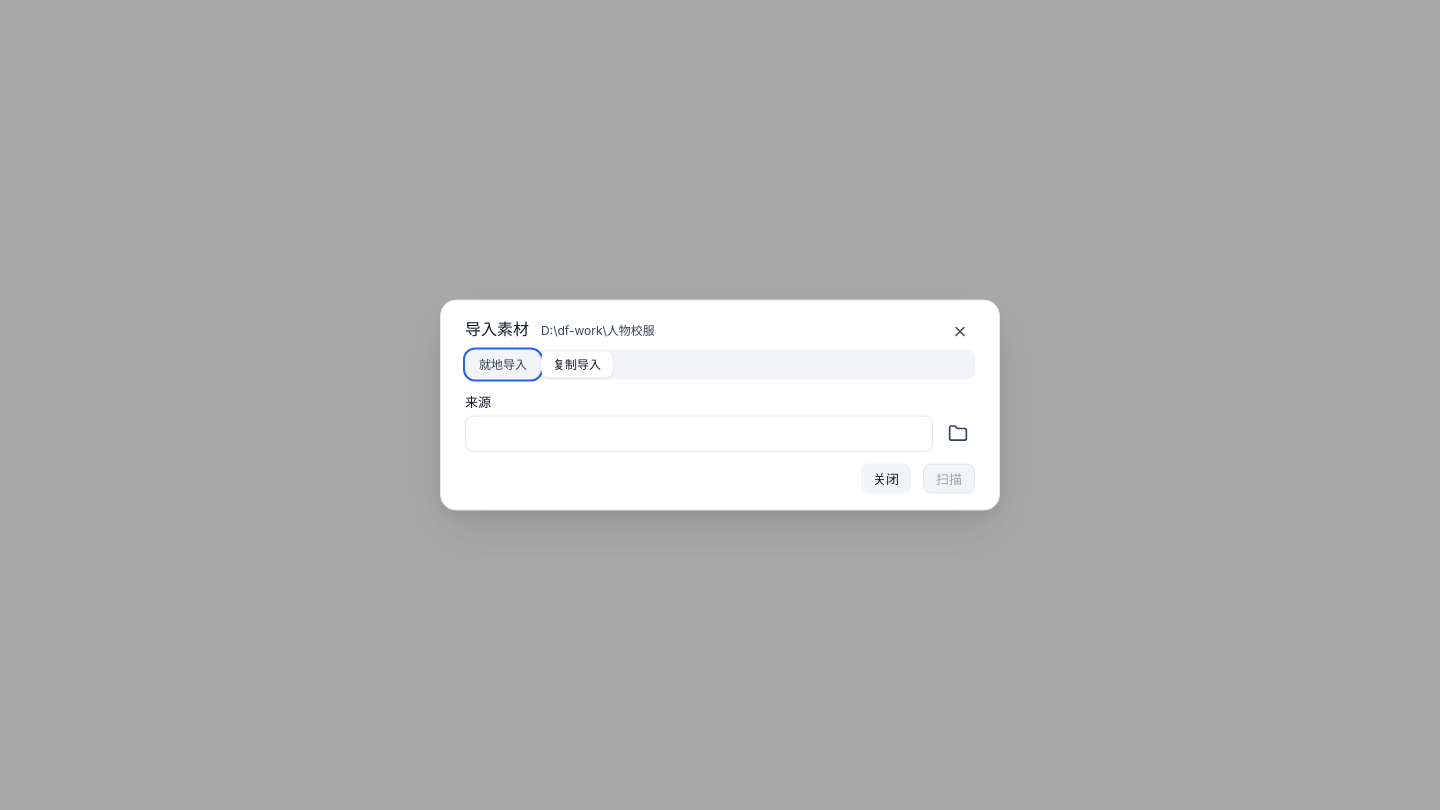
Test: 复制形态扫描无结果时列空态且导入不亮
Type "/source" into the field labelled "来源".
click(699, 434); type("/source")  # box [465,416,933,452]
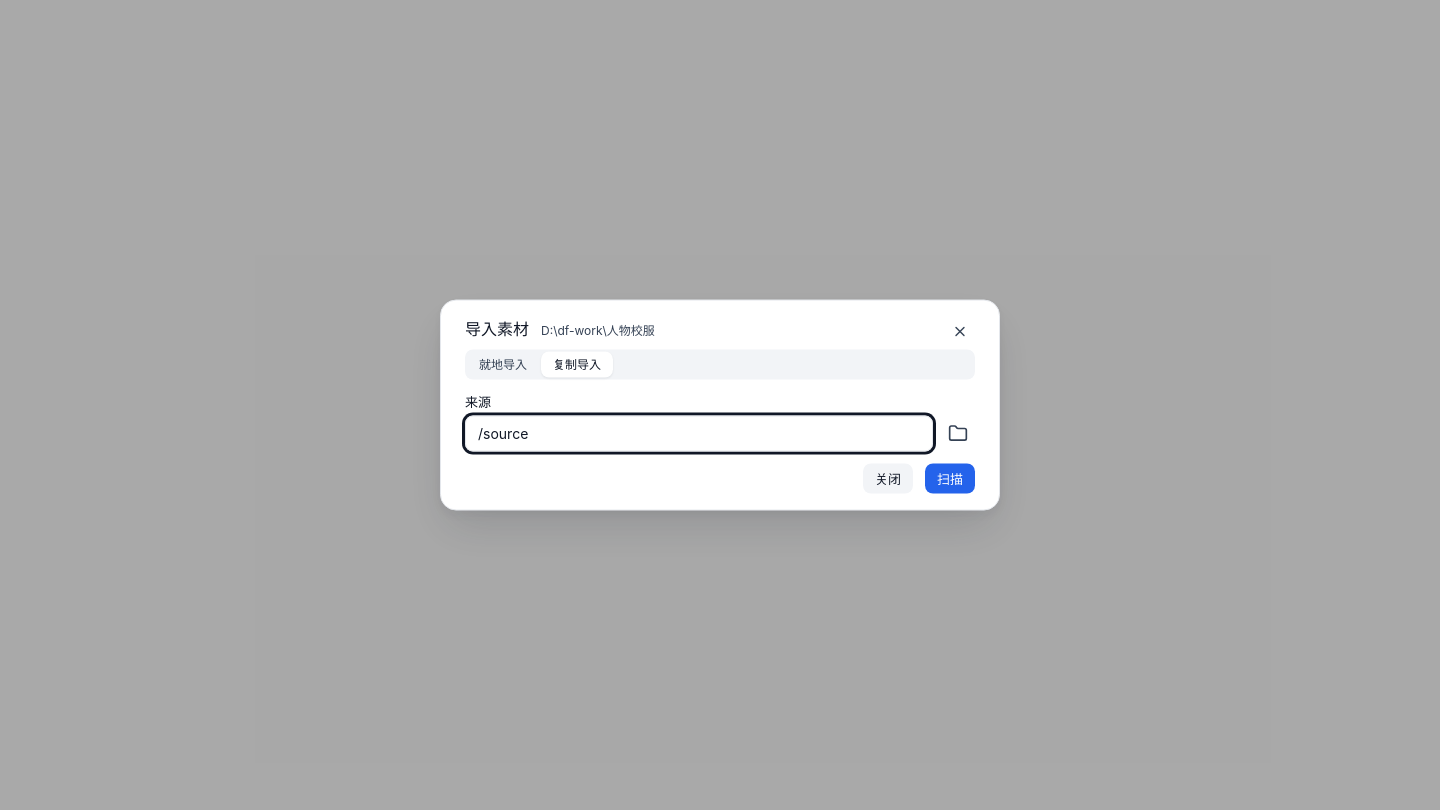
Click the button "扫描".
click(950, 478)  # box [925,464,975,494]
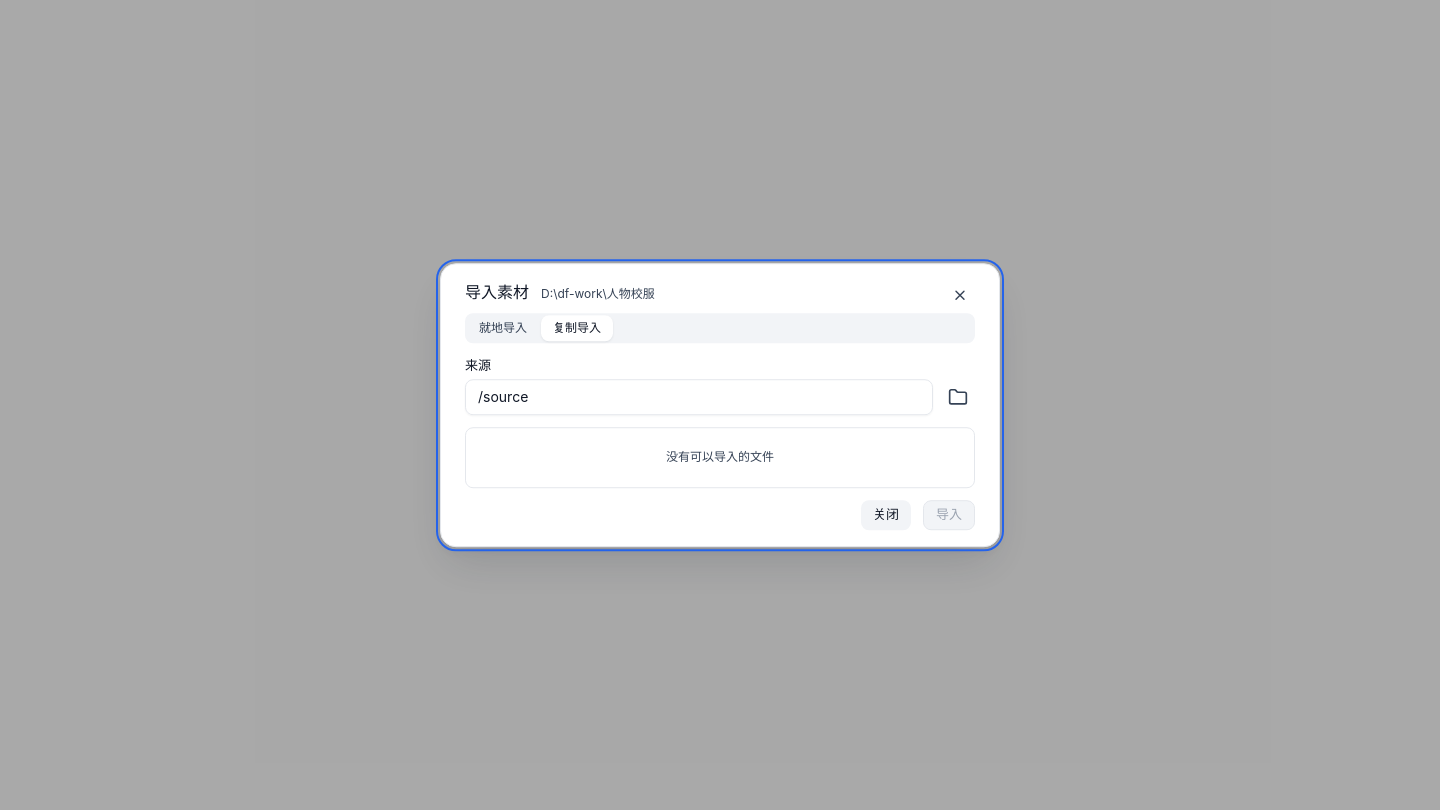
Now the text "没有可以导入的文件" is shown, box [666,449,774,464]
Now the button "导入" is disabled, box [923,500,975,530]
